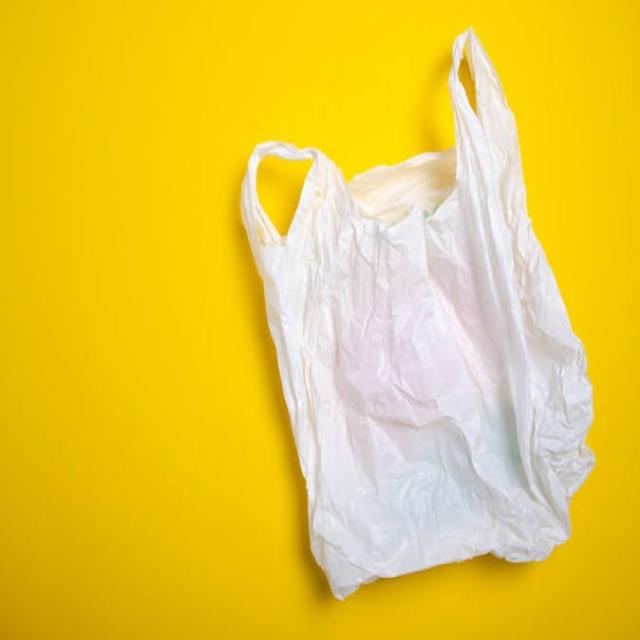plastic bag: (231, 33, 622, 619)
